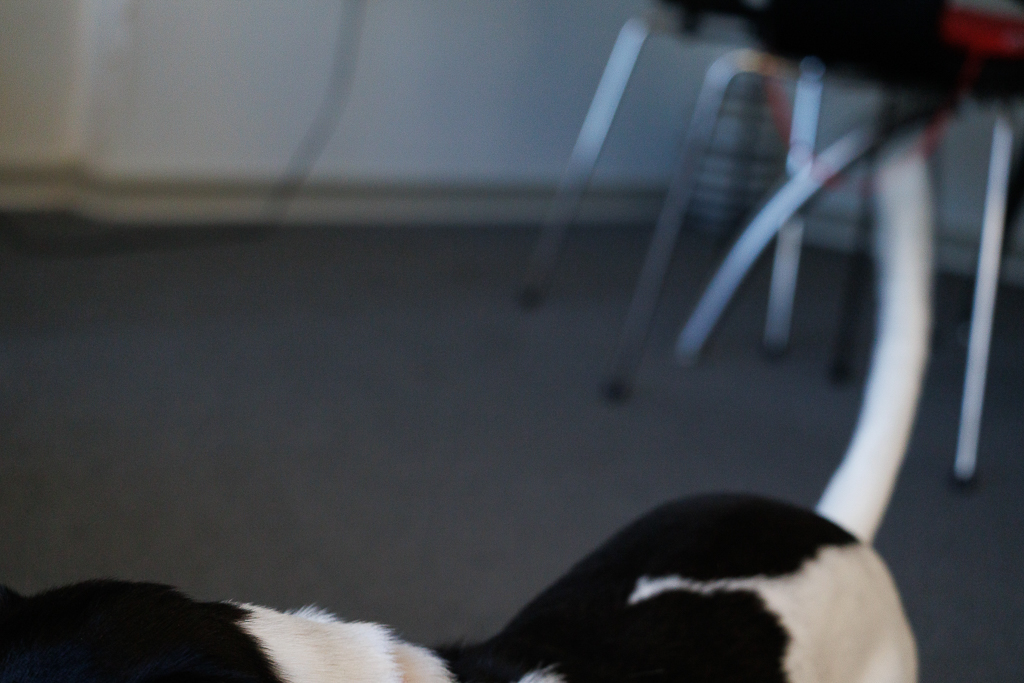Dog: (0, 134, 946, 682)
